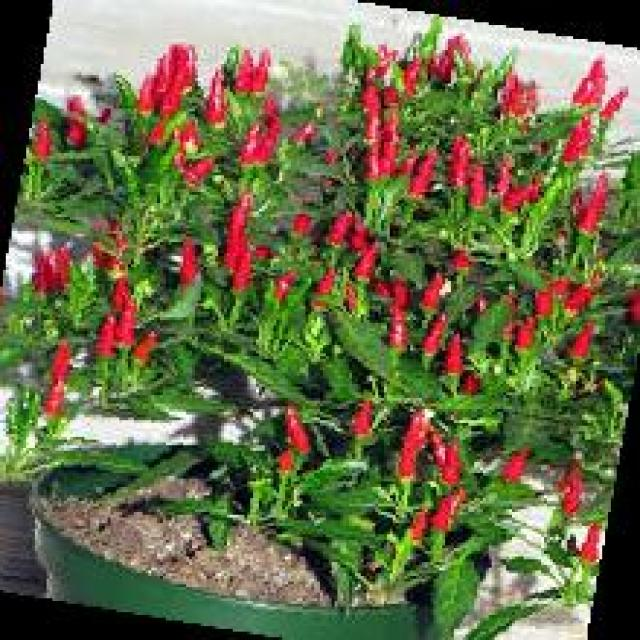Mosaic_virus: (225, 178, 272, 299)
